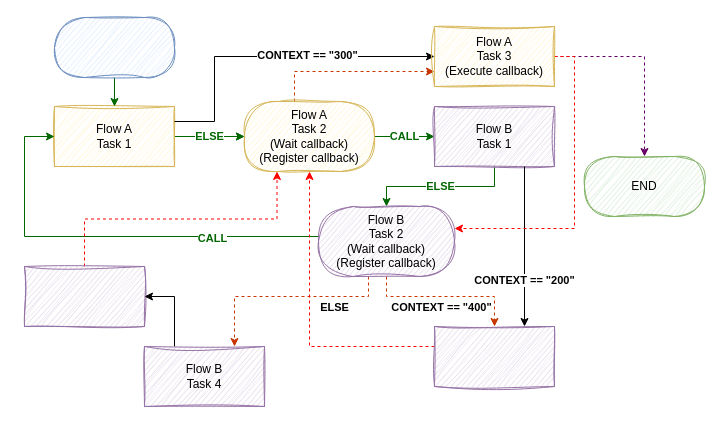
This 722x424 diagram has some shape labels left out. The shapes that lost their labels are listed below. From the top down, each one's centre as x and y in pixels, then its label:
At point (114, 47): "START".
At point (84, 296): "Flow B Task 5 (Execute callback)".
At point (494, 356): "Flow B Task 3 (Execute callback)".
